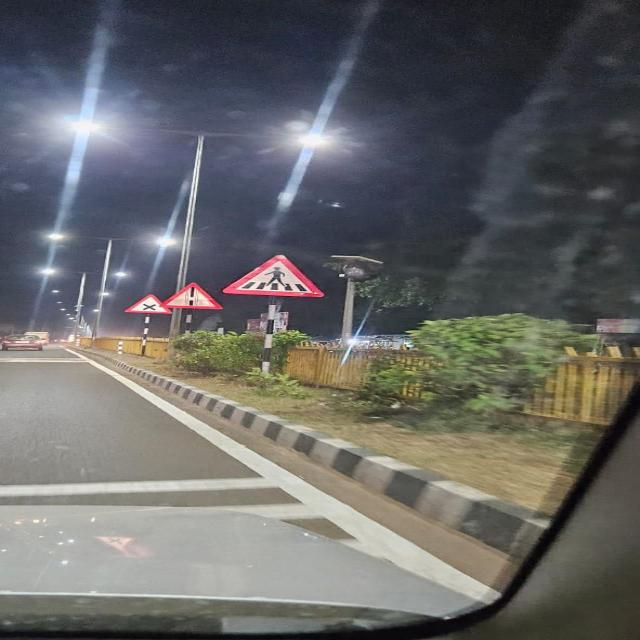Pedestrain_crossing: (225, 254, 323, 295)
